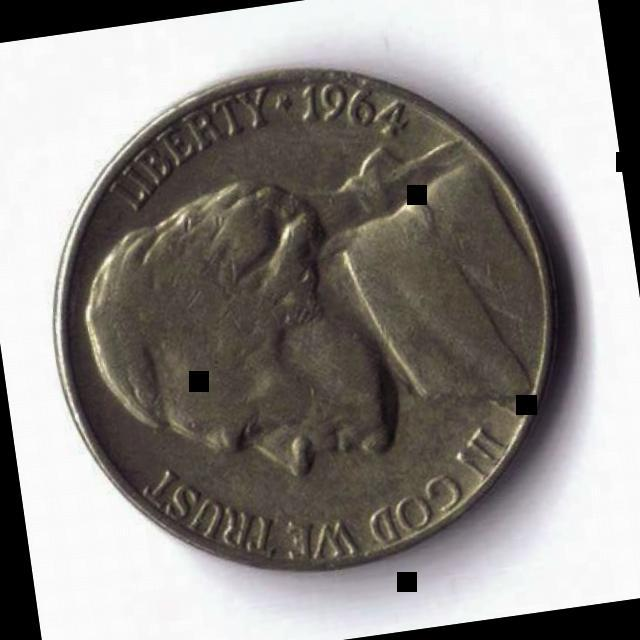Nickel: (14, 26, 591, 612)
